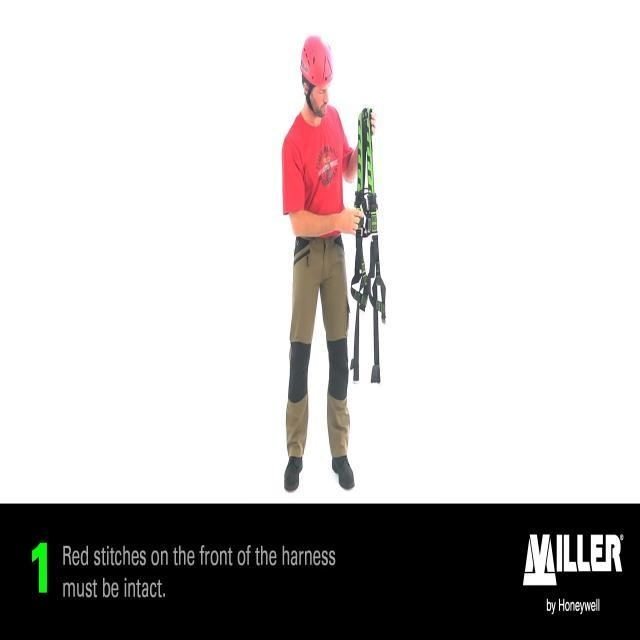Arnes_seguridad: (343, 98, 392, 395)
